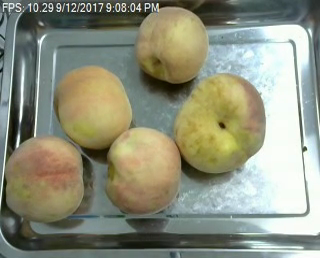Peach: (174, 74, 267, 173), (4, 134, 85, 223), (103, 125, 181, 214), (54, 65, 133, 149), (135, 5, 207, 82)
